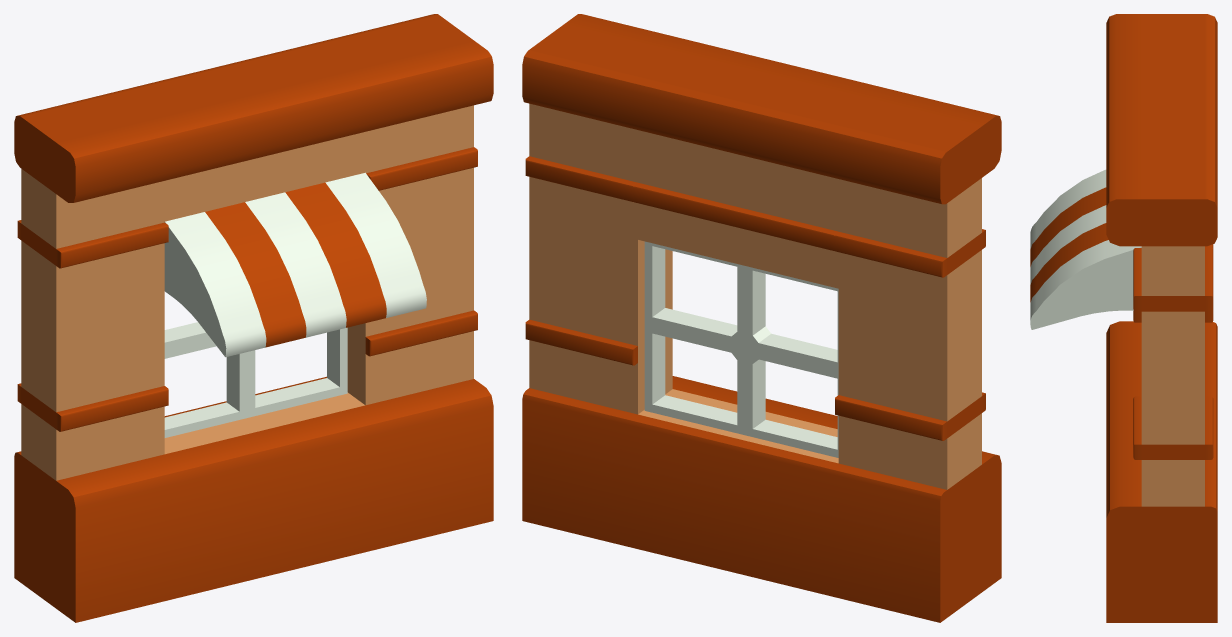
File: New_Walls001.fbx
The picture shows the model from 3 angles, left to right: view 1: azimuth 30°, elevation 25°; view 2: azimuth 150°, elevation 25°; view 3: azimuth 270°, elevation 25°; orthographic projection. The views are drawn at different scales.
Parts seen in each view (by area): view 1: Wall001.008; view 2: Wall001.008; view 3: Wall001.008.
Boxes of the visible parts, bbox=[...] form: Wall001.008: bbox=[14, 14, 493, 622]; Wall001.008: bbox=[522, 14, 1001, 622]; Wall001.008: bbox=[1030, 14, 1217, 622].
Size of the model in its own units: 250 by 266 by 107.
1 material, 1 textured.
